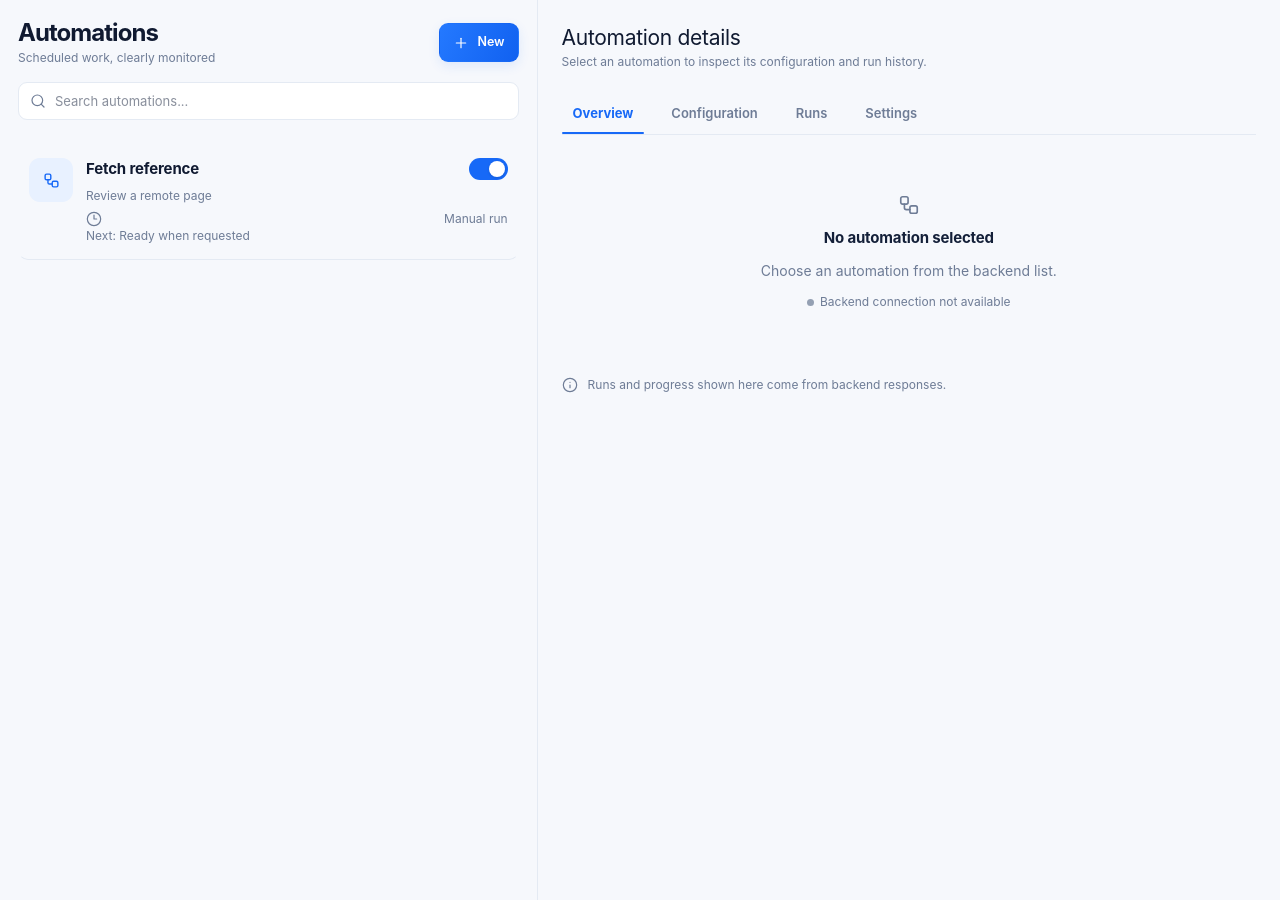
Test: automation builder workflows › previews first and sends network disabled unless the user explicitly opts in for live execution
This screenshot has width=1280, height=900.
What coordinates should you click on to do the following:
click the button "Fetch reference"
I would click on:
 (51, 180)
Its box is [18,143,519,260].
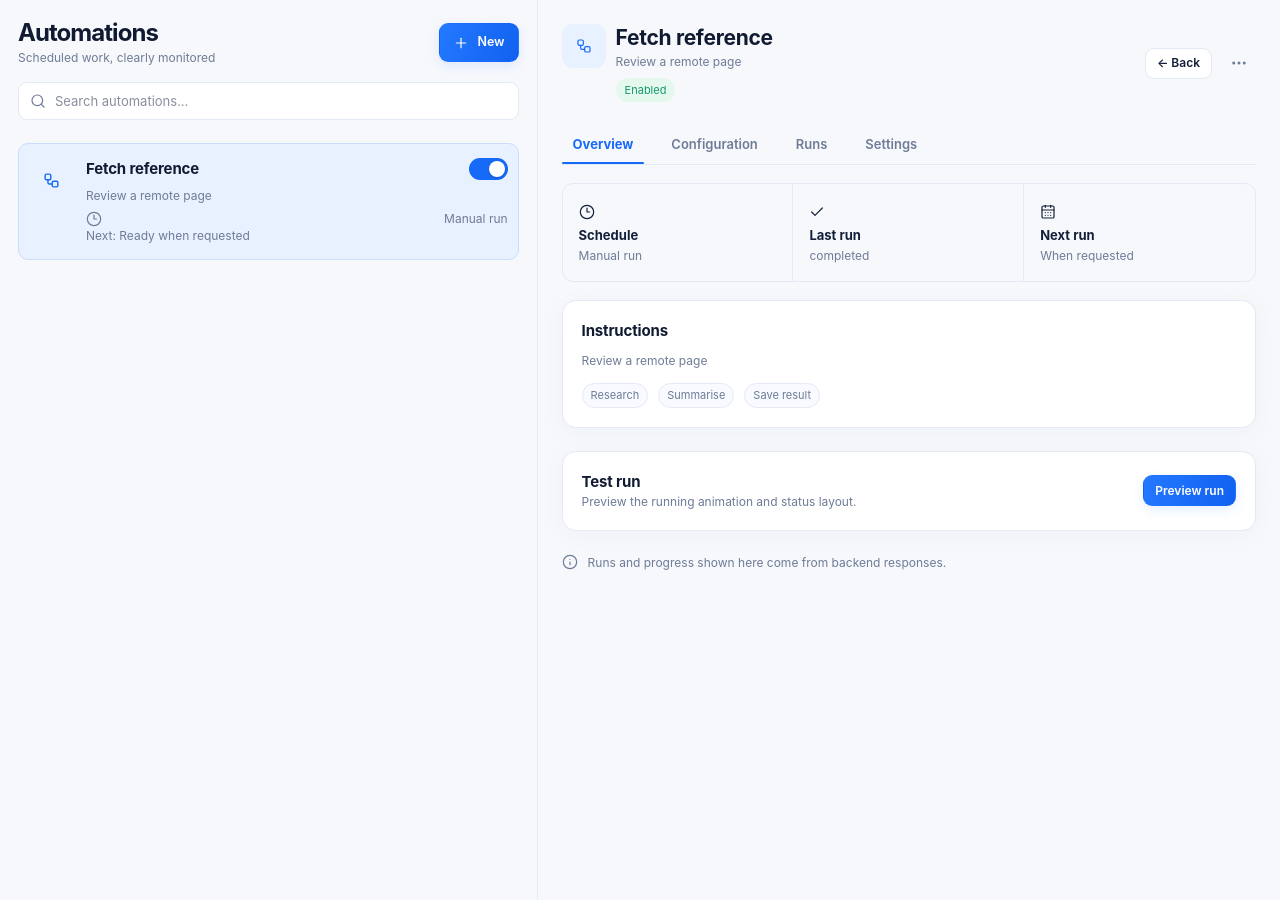
What coordinates should you click on to do the following:
click the button "Preview run"
I would click on:
 (1190, 491)
Its box is [1143,475,1236,506].
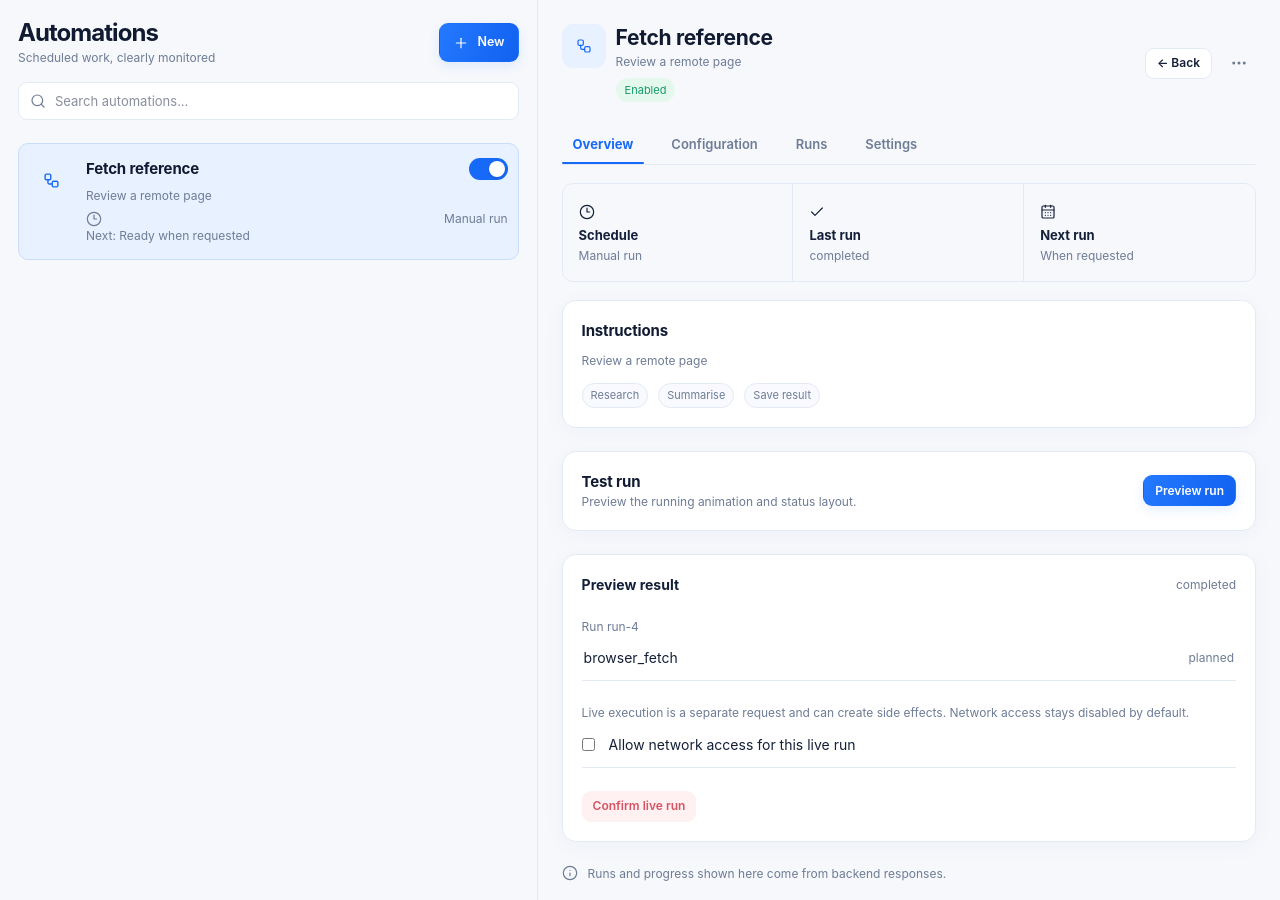
Now the text "Preview result" is shown, box [582,574,679,595]
Now the text "planned" is shown, box [1188,649,1234,666]
What coordinates should you click on to do the following:
click the checkbox labelled "Allow network access for this live run"
I would click on:
 (588, 744)
Its box is [582,738,595,751].
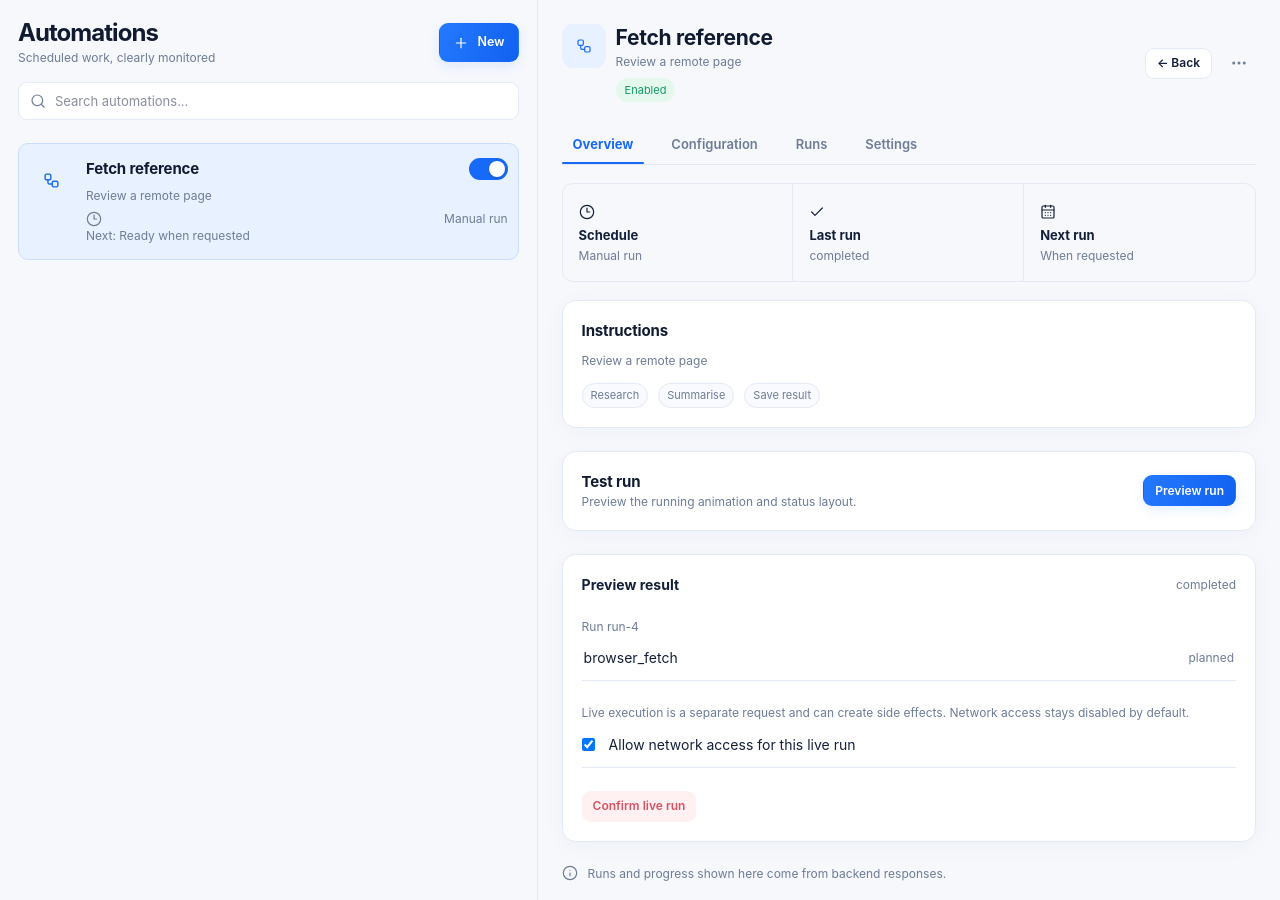
What coordinates should you click on to do the following:
click the button "Confirm live run"
I would click on:
 (639, 806)
Its box is [582,791,696,822].
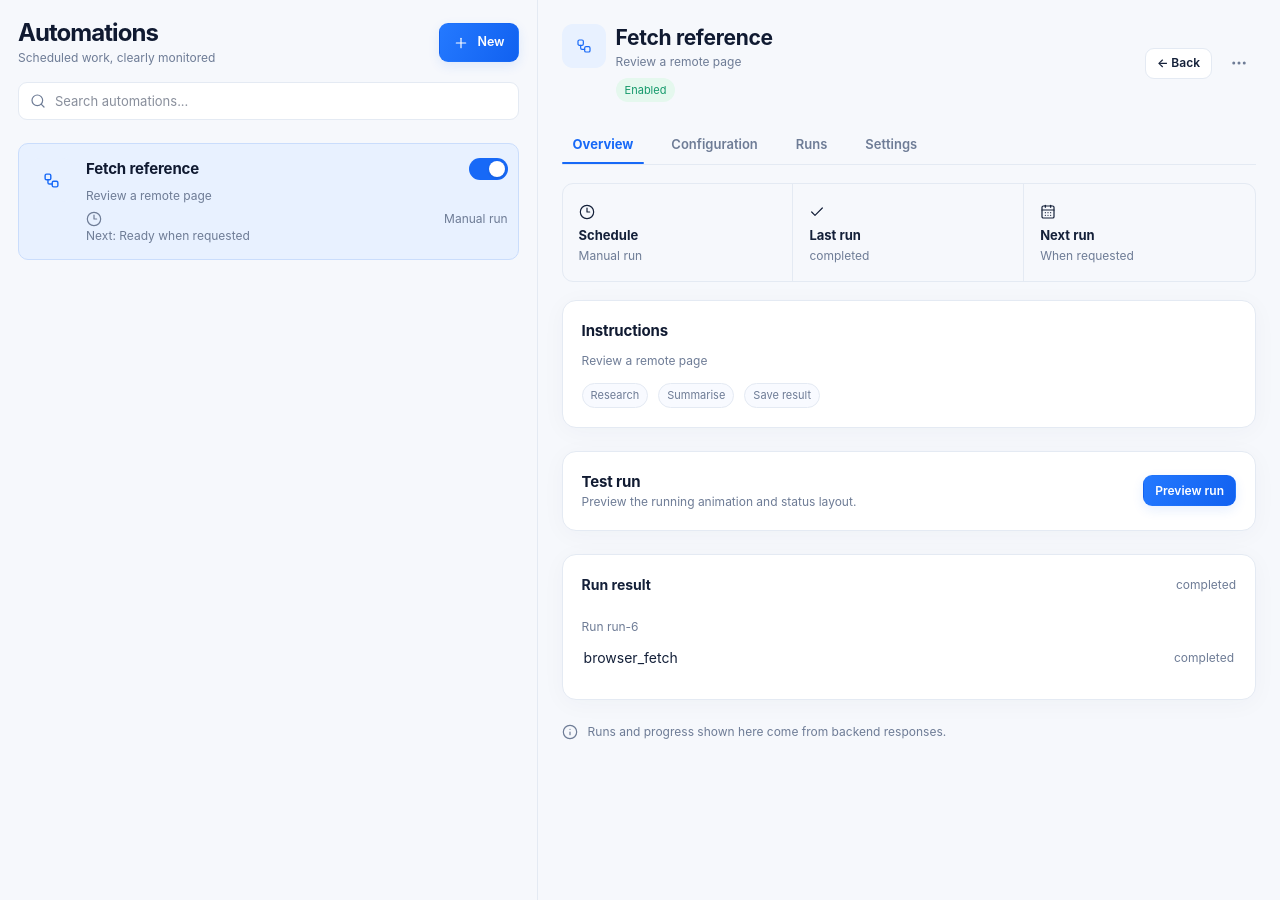
What coordinates should you click on to do the following:
click the tab "Runs"
I would click on:
 (812, 144)
Its box is [785,125,838,164].
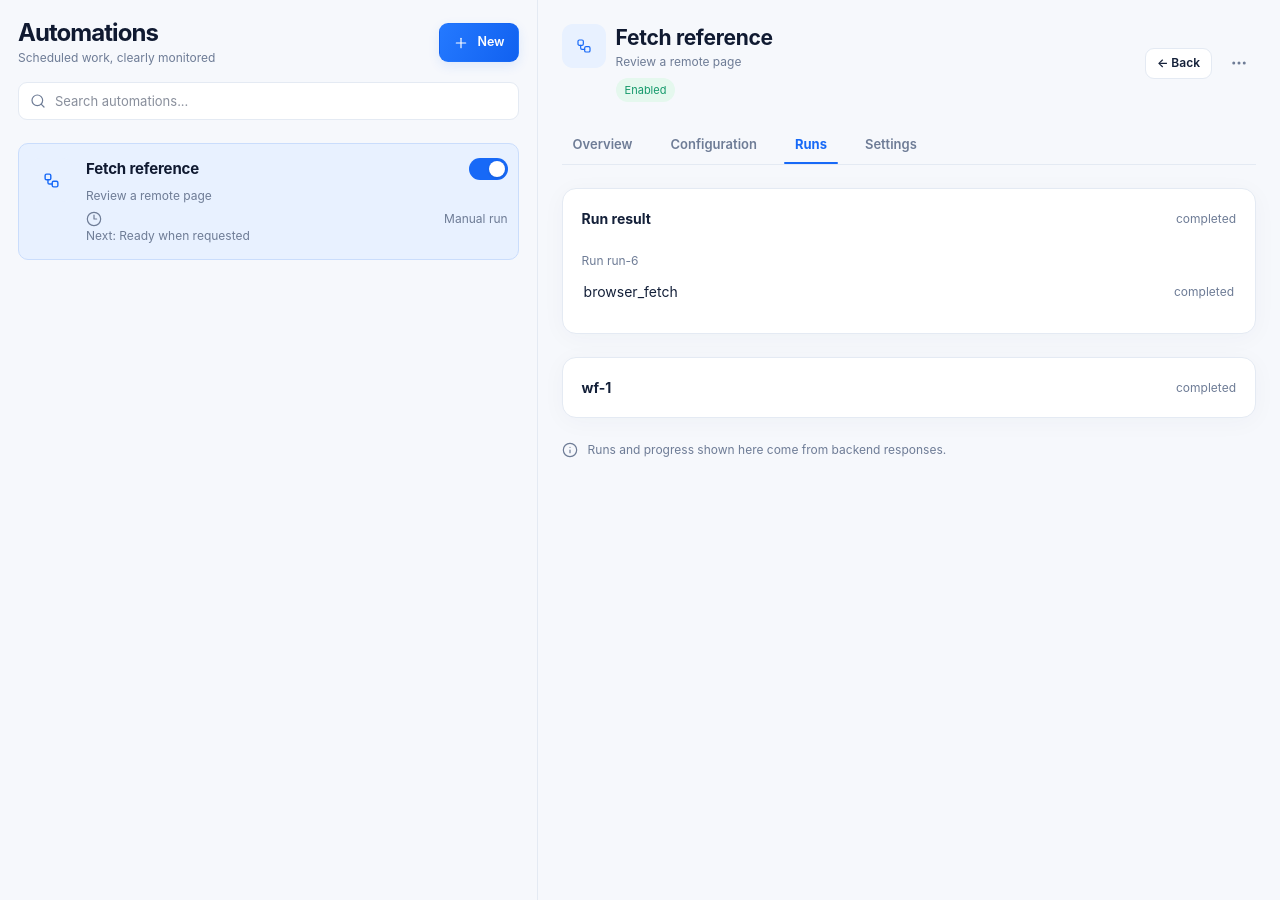
What coordinates should you click on to do the following:
click the button "wf-1 completed"
I would click on:
 (1206, 388)
Its box is [582,377,1236,398].
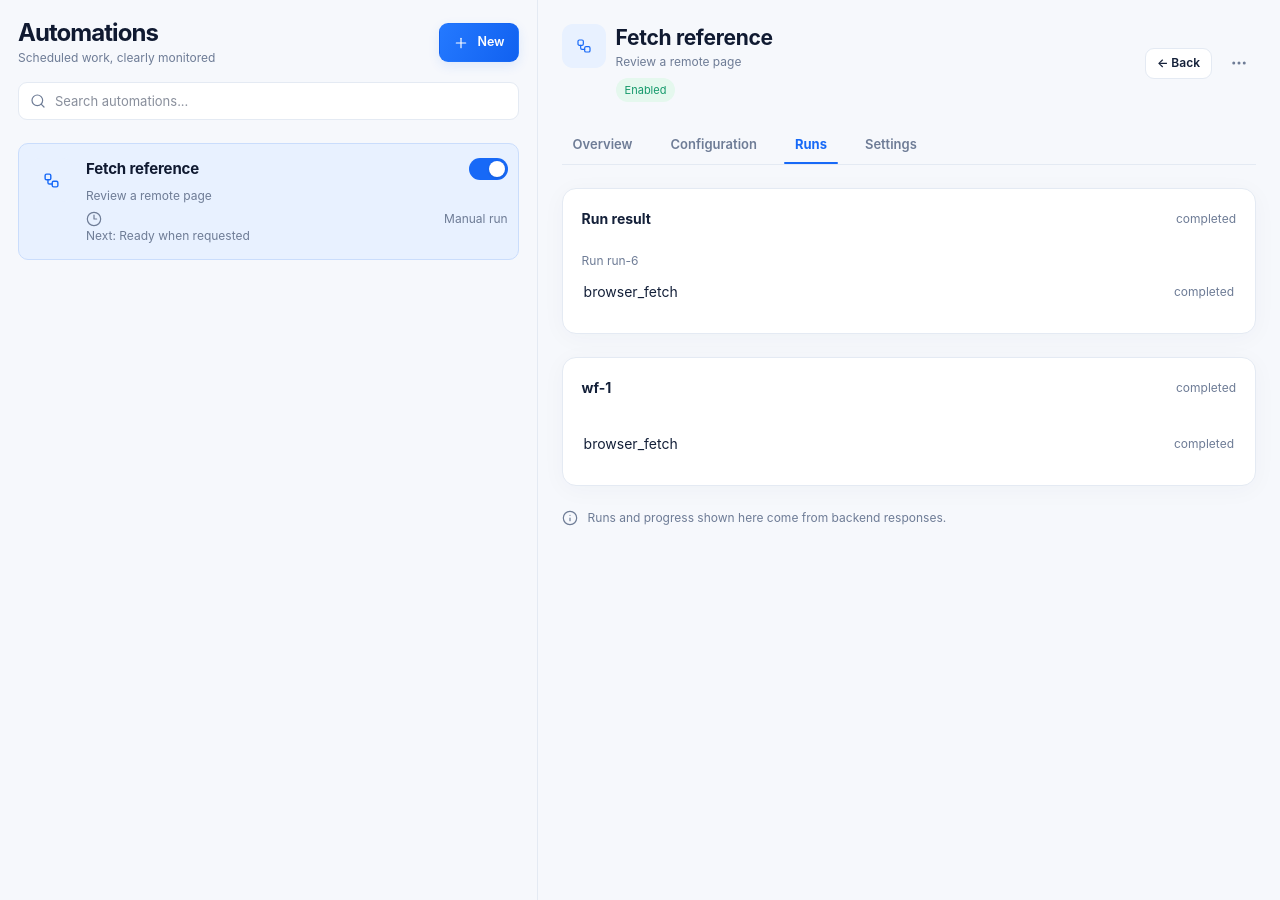
Now the text "browser_fetch" is shown 2 times, box [584,283,678,300]; [584,435,678,452]
